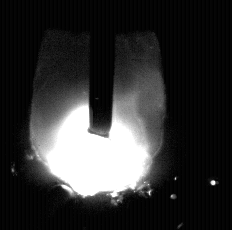arame: (90, 0, 114, 138)
poca: (30, 0, 165, 230)
